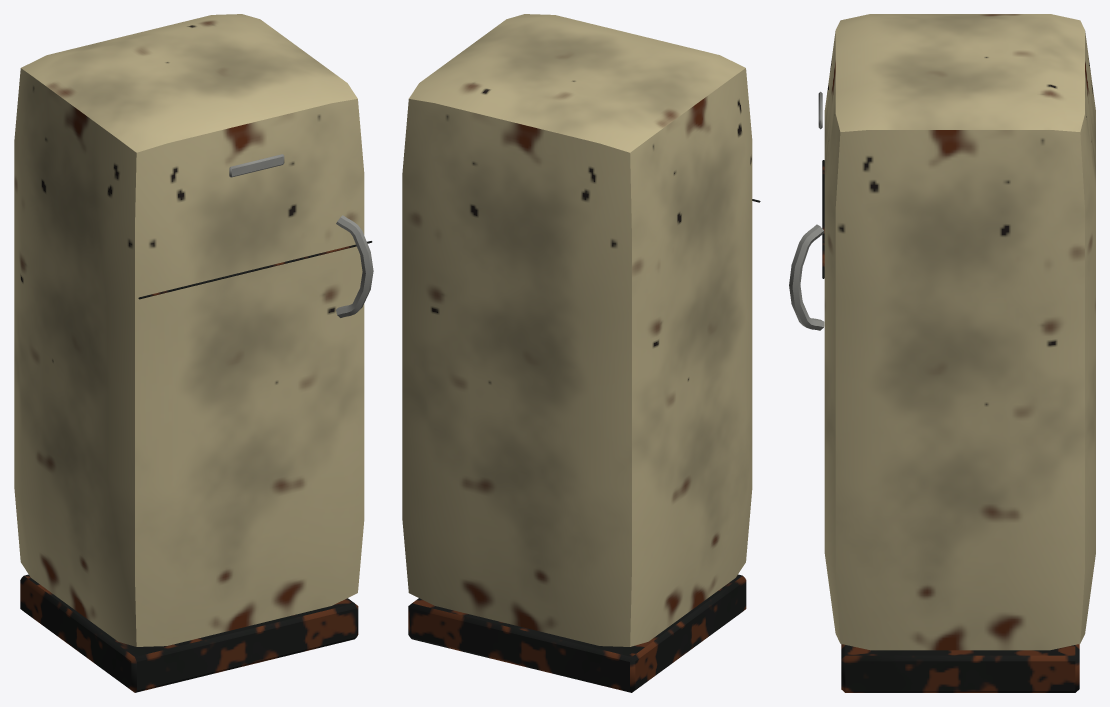
File: Fridge_Retro.fbx
3 renders of one model, left to right at view 1: azimuth 30°, elevation 25°; view 2: azimuth 150°, elevation 25°; view 3: azimuth 270°, elevation 25°, orthographic. The views are drawn at different scales.
Visible parts, largest first — view 1: Fridge_Retro; view 2: Fridge_Retro; view 3: Fridge_Retro.
Part boxes in pixels (left/top/right/bottom): Fridge_Retro: left=14, top=14, right=373, bottom=692; Fridge_Retro: left=402, top=14, right=760, bottom=692; Fridge_Retro: left=789, top=14, right=1095, bottom=692.
Size of the model in its own units: 0.72 by 1.55 by 0.747.
